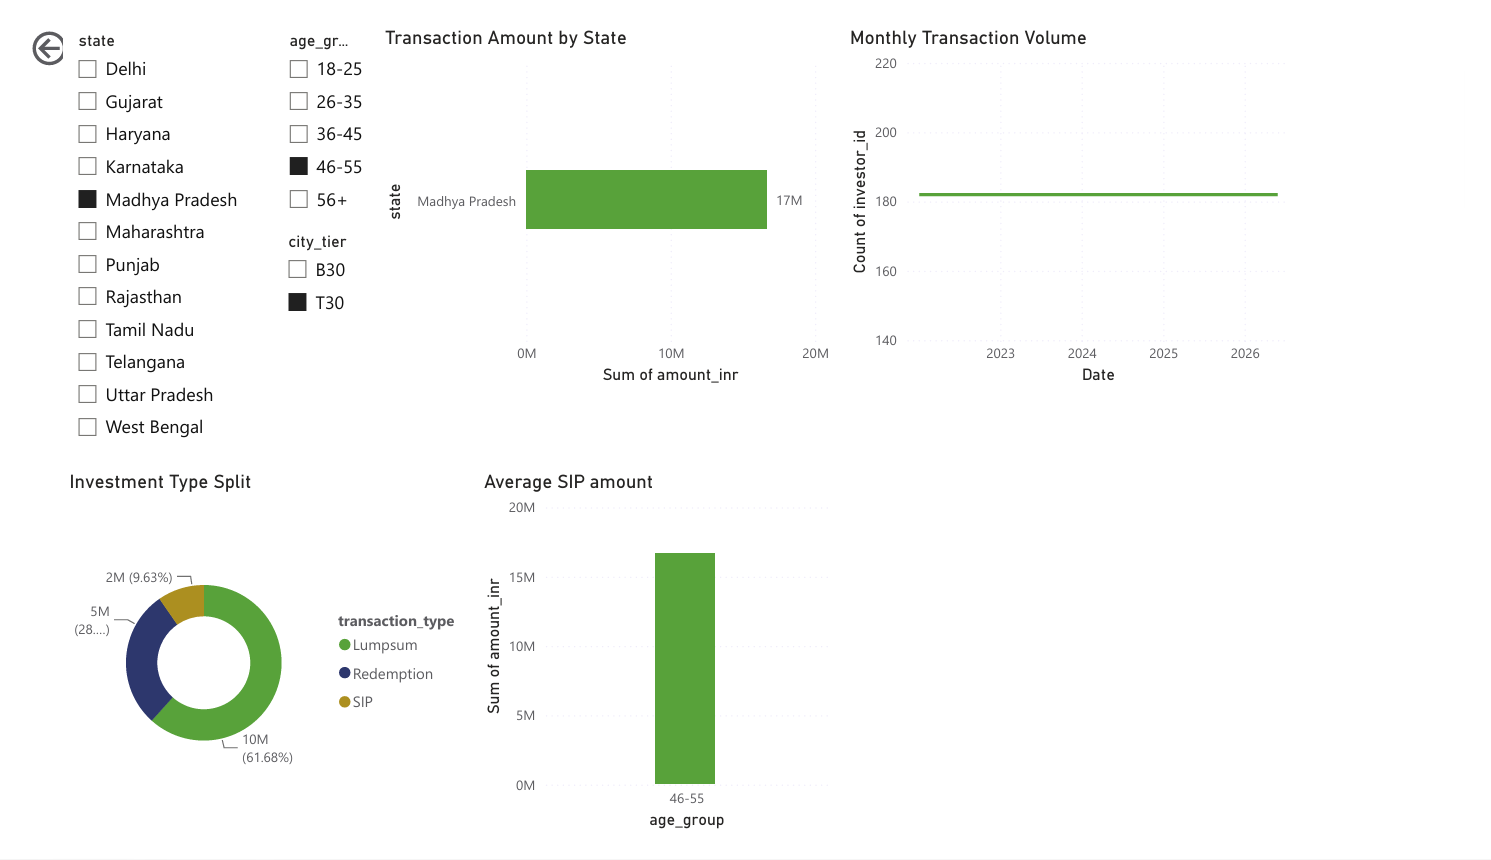

The page's visual inventory and layout, read from the dashboard file:
{"tool":"powerbi","page":{"name":"Investor Analytics","canvas":[1280,720],"ordinal":2},"visuals":[{"type":"actionButton","box":[0,0,100,40],"z":0},{"type":"lineChart","title":"Monthly Transaction Volume","fields":{"Category":["DateTable.Date"],"Y":["CountNonNull(08_investor_transactions.investor_id)"]},"box":[728,0,404,324],"z":2500},{"type":"clusteredColumnChart","title":"Average SIP amount","fields":{"Category":["08_investor_transactions.age_group"],"Y":["Sum(08_investor_transactions.amount_inr)"]},"box":[402,396,316,324],"z":5000},{"type":"donutChart","title":"Investment Type Split","fields":{"Y":["Sum(08_investor_transactions.amount_inr)"],"Category":["08_investor_transactions.transaction_type"]},"box":[32.9,395.7,368.6,324.3],"z":6062},{"type":"clusteredBarChart","title":"Transaction Amount by State","fields":{"Category":["08_investor_transactions.state"],"Y":["Sum(08_investor_transactions.amount_inr)"]},"box":[314.3,0,404.3,324.3],"z":6125},{"type":"slicer","fields":{"Values":["08_investor_transactions.city_tier"]},"box":[220,178.6,94.3,98.6],"z":6250},{"type":"slicer","fields":{"Values":["08_investor_transactions.age_group"]},"box":[221.4,0,92.9,178.6],"z":6500},{"type":"slicer","fields":{"Values":["08_investor_transactions.state"]},"box":[32.9,0,187.1,385.7],"z":7000}]}

Visuals, with their boxes in screenshot pixels (x1, y1, x2, y2), scaled from the page's 1280x720 canvas onto the 1491x860 screenshot:
actionButton: [x1=0, y1=0, x2=116, y2=48]
"Monthly Transaction Volume" lineChart: [x1=848, y1=0, x2=1319, y2=387]
"Average SIP amount" clusteredColumnChart: [x1=468, y1=473, x2=836, y2=859]
"Investment Type Split" donutChart: [x1=38, y1=473, x2=468, y2=859]
"Transaction Amount by State" clusteredBarChart: [x1=366, y1=0, x2=837, y2=387]
slicer - 08_investor_transactions.city_tier: [x1=256, y1=213, x2=366, y2=331]
slicer - 08_investor_transactions.age_group: [x1=258, y1=0, x2=366, y2=213]
slicer - 08_investor_transactions.state: [x1=38, y1=0, x2=256, y2=461]
